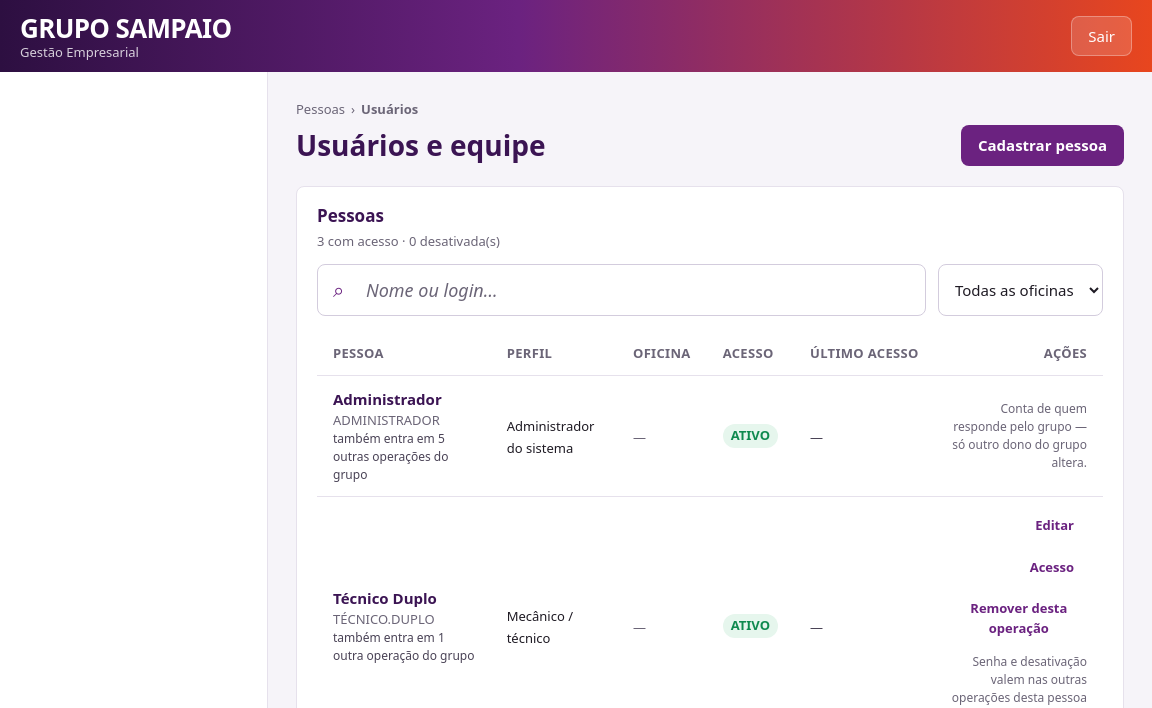
Test: conta que entra em outra operação › no Editar, nome e e-mail vêm travados — são da conta, não do vínculo
This screenshot has width=1152, height=708.
Expected: the text "Administrador" is shown, x1=333 y1=389 x2=442 y2=409
Click the button "Editar". click: [1055, 526]
box: x1=1022 y1=509 x2=1087 y2=542
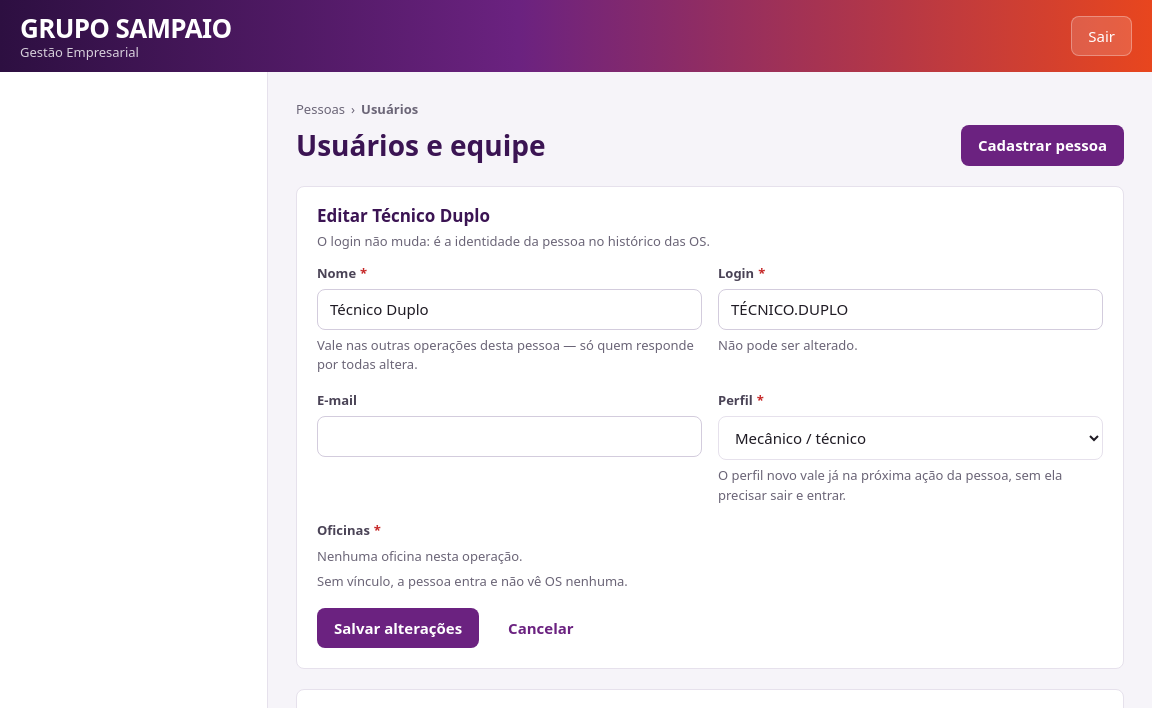
Now the field labelled "Nome*" is disabled, box x1=317 y1=289 x2=702 y2=330
Now the field labelled "E-mail" is disabled, box x1=317 y1=416 x2=702 y2=456
